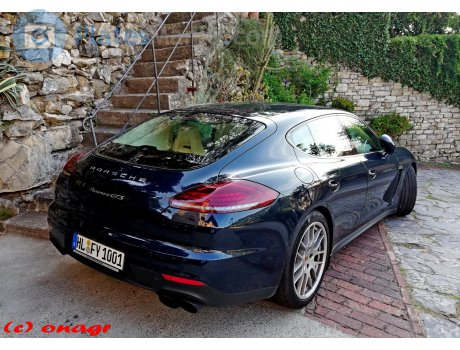License Plates: (74, 232, 124, 262)
